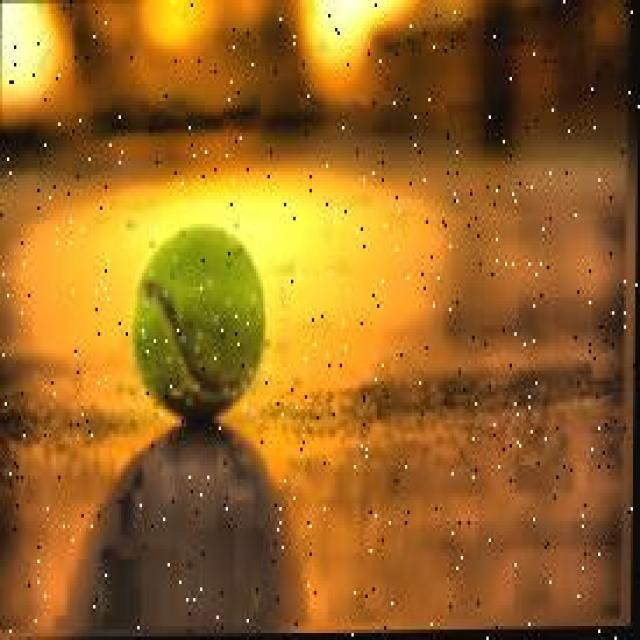tennis-ball: (125, 215, 281, 435)
